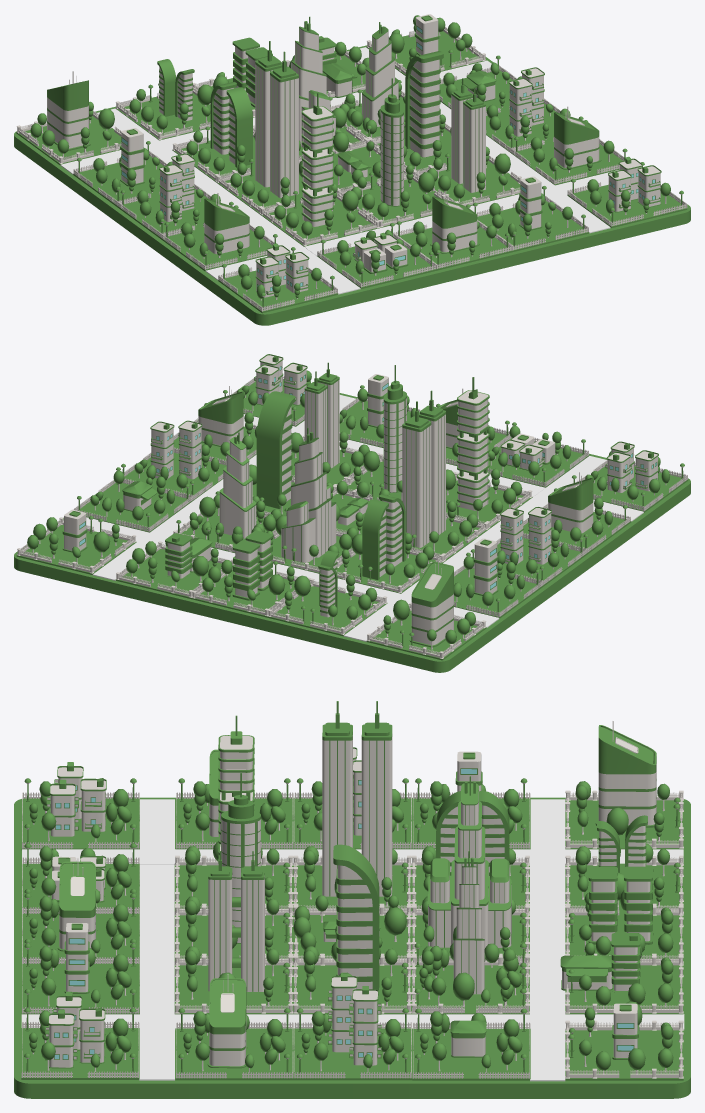
The model's file is cartoon_low_poly_city_mini_pack.glb.
The picture shows the model from 3 angles, top to bottom: view 1: azimuth 30°, elevation 25°; view 2: azimuth 150°, elevation 25°; view 3: azimuth 270°, elevation 25°; orthographic projection. The views are drawn at different scales.
Parts seen in each view (by area): view 1: Plane_2, b_skyscaper05_74, b_skyscaper01_70, base_for_L.012_13, b_skyscaper06_75, base_for_s_m.005_18, b_skyscaper02_71, base_for_L.002_21, base_for_L.006_7, base_for_s_m.001_3, b_skyscaper07_76, base_for_L.003_4 (+54 smaller); view 2: Plane_2, b_skyscaper04_73, base_for_L.003_4, b_skyscaper06_75, base_for_L.013_22, b_skyscaper05_74, b_skyscaper01.001_80, base_for_s_m.008_20, b_skyscaper07_76, base_for_L.001_16, base_for_L.002_21, b_house03_m_32 (+52 smaller); view 3: Plane_2, b_skyscaper04_73, base_for_L.013_22, base_for_s_m.008_20, b_skyscaper02_71, road.005_62, b_skyscaper06_75, base_for_s_m.013_28, base_for_s_m.005_18, base_for_s_m.012_27, road.008_57, base_for_s_m.009_23 (+57 smaller).
Part boxes in pixels (left/top/right/bottom): Plane_2: left=14, top=35, right=690, bottom=325; b_skyscaper05_74: left=301, top=93, right=333, bottom=226; b_skyscaper01_70: left=270, top=51, right=298, bottom=197; base_for_L.012_13: left=260, top=183, right=379, bottom=246; b_skyscaper06_75: left=405, top=51, right=443, bottom=157; base_for_s_m.005_18: left=473, top=186, right=589, bottom=251; b_skyscaper02_71: left=451, top=78, right=485, bottom=192; base_for_L.002_21: left=16, top=101, right=121, bottom=164; base_for_L.006_7: left=337, top=165, right=454, bottom=227; base_for_s_m.001_3: left=317, top=223, right=437, bottom=288; b_skyscaper07_76: left=210, top=82, right=252, bottom=167; base_for_L.003_4: left=115, top=83, right=212, bottom=140; Plane_2: left=14, top=379, right=690, bottom=672; b_skyscaper04_73: left=281, top=428, right=336, bottom=562; base_for_L.003_4: left=267, top=575, right=387, bottom=636; b_skyscaper06_75: left=256, top=391, right=295, bottom=508; base_for_L.013_22: left=16, top=516, right=136, bottom=574; b_skyscaper05_74: left=457, top=377, right=489, bottom=510; b_skyscaper01.001_80: left=402, top=401, right=431, bottom=547; base_for_s_m.008_20: left=74, top=467, right=193, bottom=532; b_skyscaper07_76: left=362, top=494, right=405, bottom=579; base_for_L.001_16: left=115, top=541, right=233, bottom=599; base_for_L.002_21: left=366, top=599, right=486, bottom=660; b_house03_m_32: left=409, top=559, right=455, bottom=647; Plane_2: left=14, top=797, right=690, bottom=1098; b_skyscaper04_73: left=428, top=776, right=511, bottom=948; base_for_L.013_22: left=565, top=1001, right=683, bottom=1080; base_for_s_m.008_20: left=412, top=1008, right=530, bottom=1080; b_skyscaper02_71: left=208, top=851, right=264, bottom=991; road.005_62: left=530, top=849, right=565, bottom=1013; b_skyscaper06_75: left=333, top=844, right=379, bottom=994; base_for_s_m.013_28: left=293, top=1008, right=412, bottom=1080; base_for_s_m.005_18: left=21, top=943, right=139, bottom=1014; base_for_s_m.012_27: left=175, top=1008, right=293, bottom=1080; road.008_57: left=140, top=864, right=174, bottom=1013; base_for_s_m.009_23: left=21, top=1008, right=139, bottom=1079.
Size of the model in its own units: 72.82 by 24.43 by 72.82.
